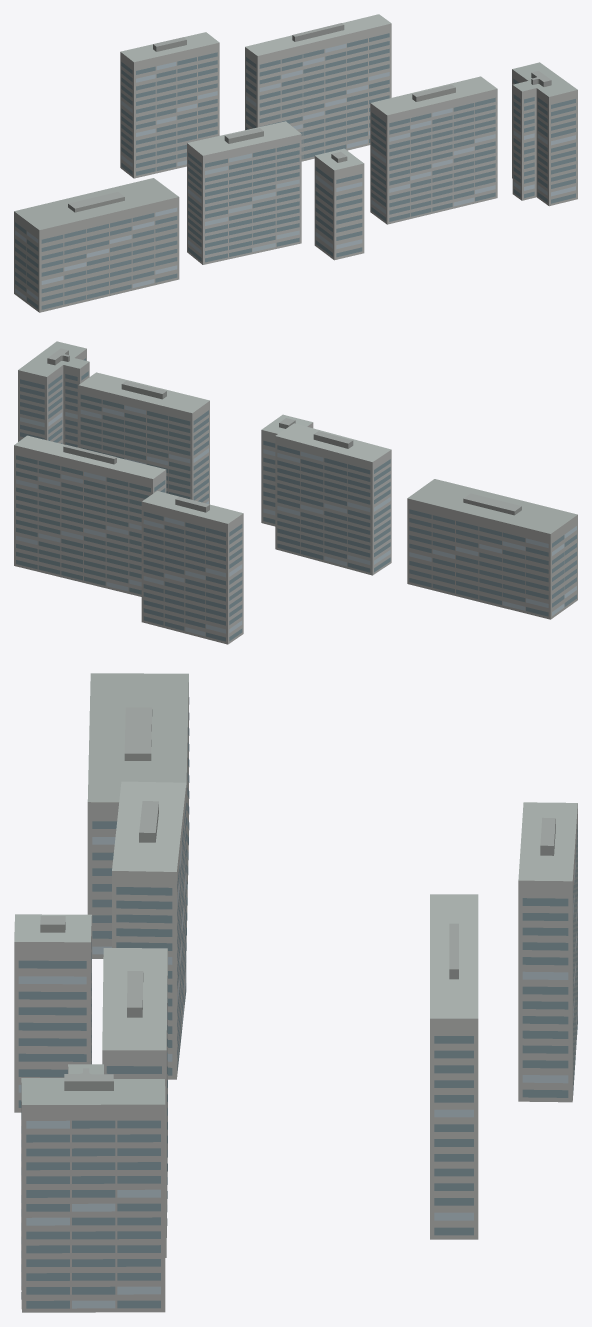
Rendered from apt-a15784601.glb.
The picture shows the model from 3 angles, top to bottom: view 1: azimuth 30°, elevation 25°; view 2: azimuth 150°, elevation 25°; view 3: azimuth 270°, elevation 25°; orthographic projection. The views are drawn at different scales.
Parts seen in each view (by area): view 1: apt-a15784601; view 2: apt-a15784601; view 3: apt-a15784601.
Part boxes in pixels (left/top/right/bottom): apt-a15784601: left=14, top=14, right=577, bottom=312; apt-a15784601: left=14, top=341, right=577, bottom=644; apt-a15784601: left=14, top=673, right=577, bottom=1312.
Bounding box in the file's own units: 214 × 47.81 × 106.
